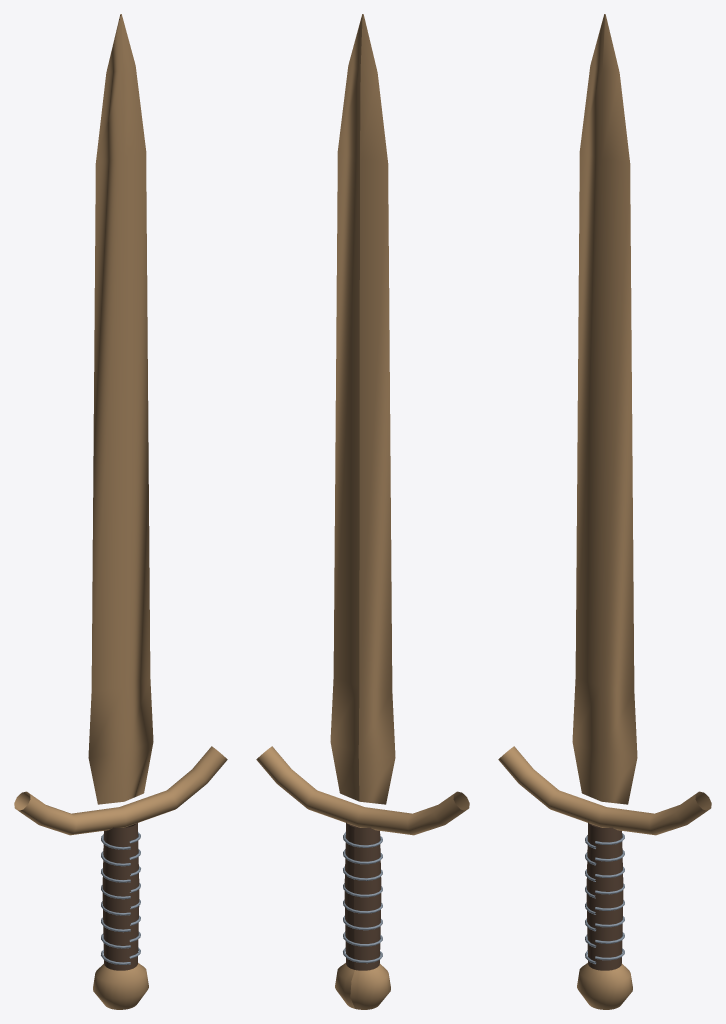
The model's file is training_sword.glb.
3 views of the same model, side by side, from view 1: azimuth 30°, elevation 25°; view 2: azimuth 150°, elevation 25°; view 3: azimuth 330°, elevation 25° (orthographic).
Visible parts, largest first — view 1: double_edged_blade, curved_crossguard, grip_leather, pommel; view 2: double_edged_blade, curved_crossguard, grip_leather, pommel; view 3: double_edged_blade, curved_crossguard, grip_leather, pommel.
Part boxes in pixels (left/top/right/bottom): double_edged_blade: left=88, top=14, right=153, bottom=804; curved_crossguard: left=14, top=746, right=227, bottom=835; grip_leather: left=102, top=822, right=139, bottom=970; pommel: left=93, top=963, right=148, bottom=1009; double_edged_blade: left=330, top=14, right=395, bottom=804; curved_crossguard: left=256, top=746, right=469, bottom=835; grip_leather: left=344, top=822, right=381, bottom=970; pommel: left=335, top=963, right=390, bottom=1009; double_edged_blade: left=572, top=14, right=637, bottom=804; curved_crossguard: left=498, top=746, right=711, bottom=835; grip_leather: left=586, top=822, right=623, bottom=970; pommel: left=577, top=963, right=632, bottom=1009.
Size of the model in its own units: 0.1994 by 0.906 by 0.042.
